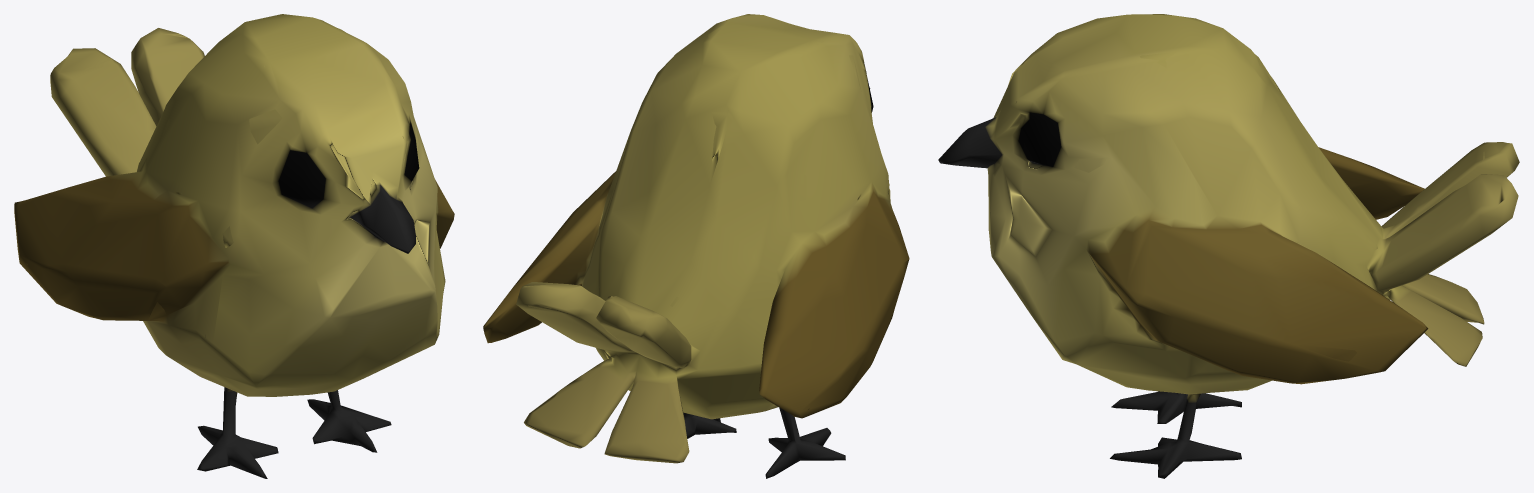
The model's file is gen3d-small-songbird-lod0.glb.
The picture shows the model from 3 angles, left to right: view 1: azimuth 30°, elevation 25°; view 2: azimuth 150°, elevation 25°; view 3: azimuth 270°, elevation 25°; orthographic projection. The views are drawn at different scales.
Visible parts, largest first — view 1: part_0; view 2: part_0; view 3: part_0.
Boxes of the visible parts, x1,y1,x2,y2 form: part_0: (14, 14, 454, 478); part_0: (483, 14, 909, 478); part_0: (938, 14, 1519, 478).
Size of the model in its own units: 0.8615 by 0.9991 by 1.31.
